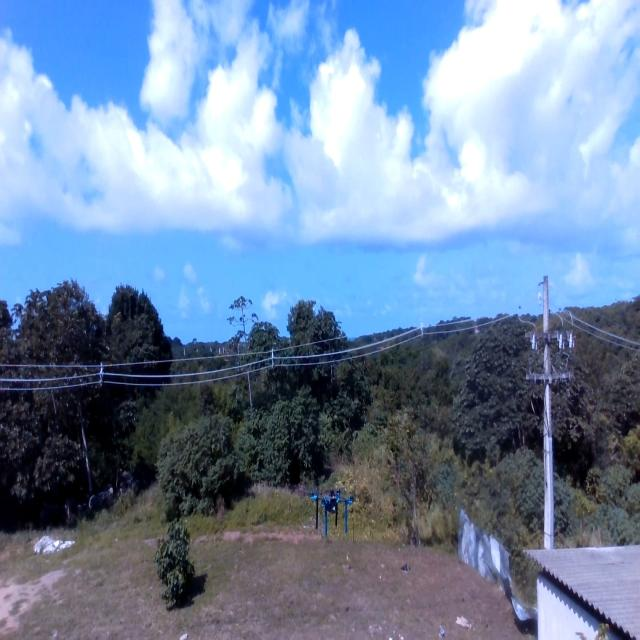-uav-: (306, 474, 356, 536)
